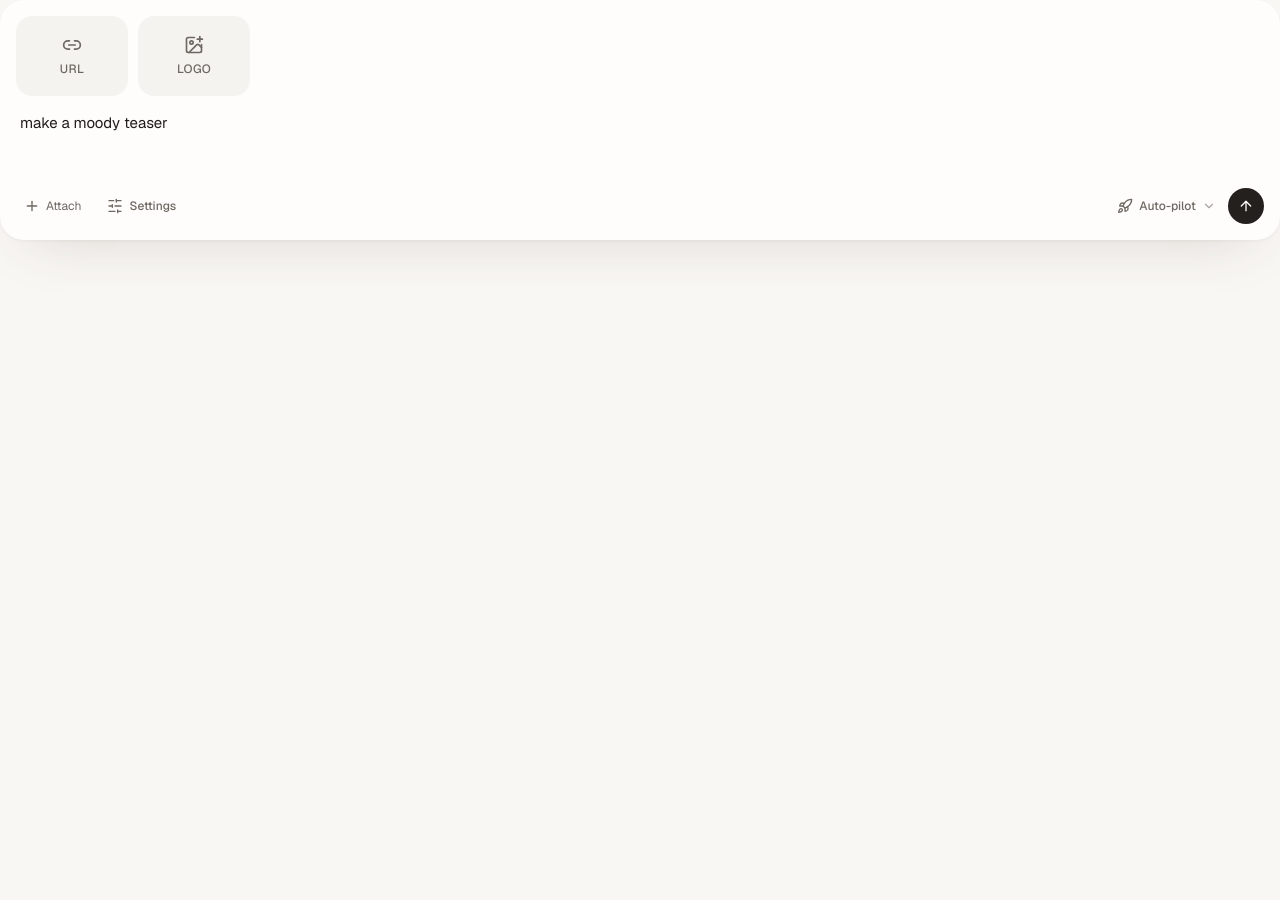
it: <HomeComposer> › opens the upgrade dialog and creates nothing when out of credits (<= 0)
Click the button named "generate": click(1246, 206) [1228,188,1264,224]
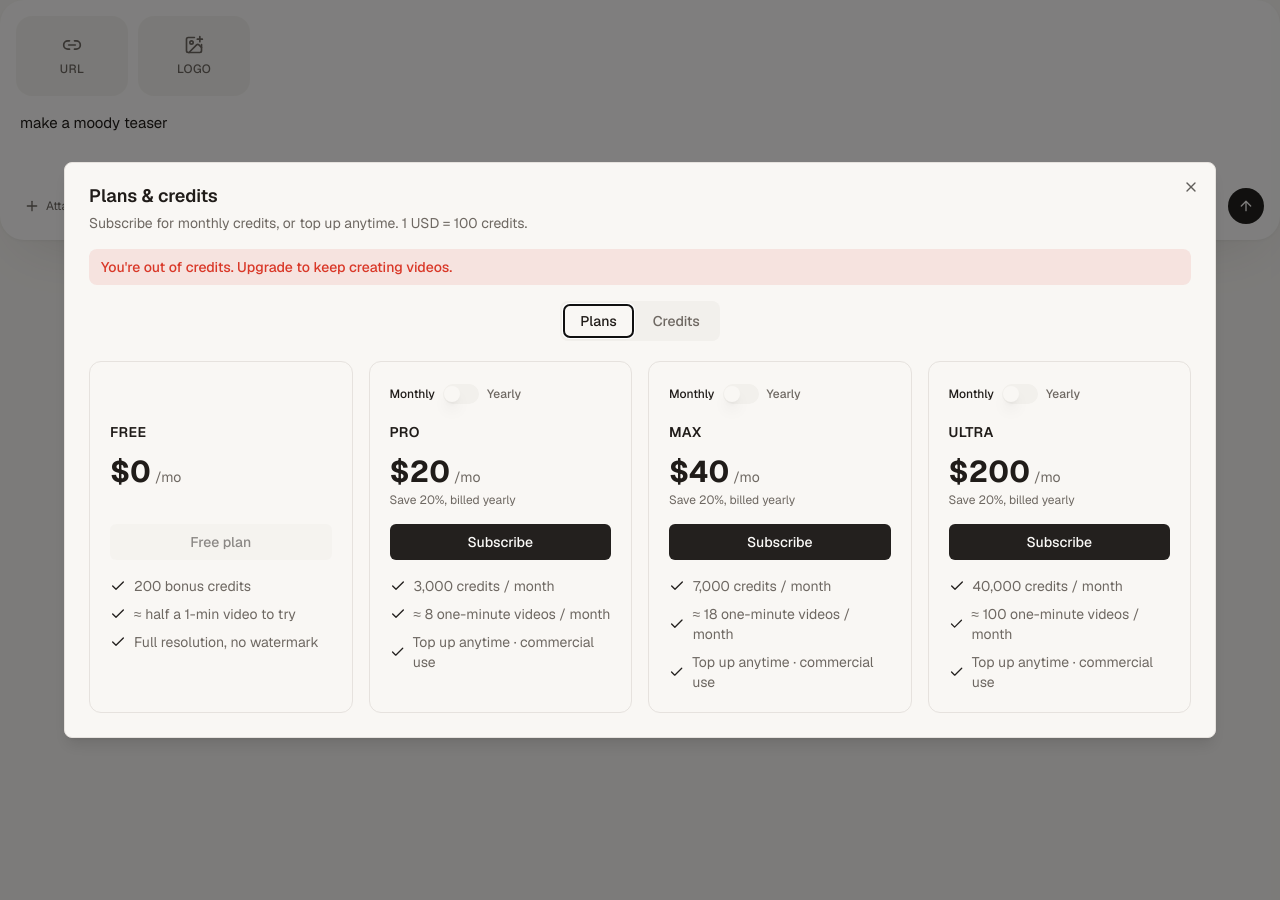
Expected: the text "You're out of credits. Upgrade to keep creating videos." is shown, [89,249,1191,285]
